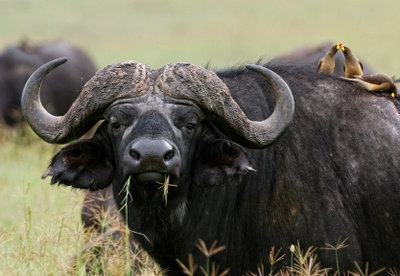buffalo: (19, 56, 400, 275)
